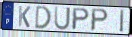D: (34, 5, 53, 30)
I: (120, 9, 125, 34)
K: (17, 5, 32, 29)
P: (71, 7, 91, 32), (90, 8, 110, 32)
U: (54, 6, 71, 31)
